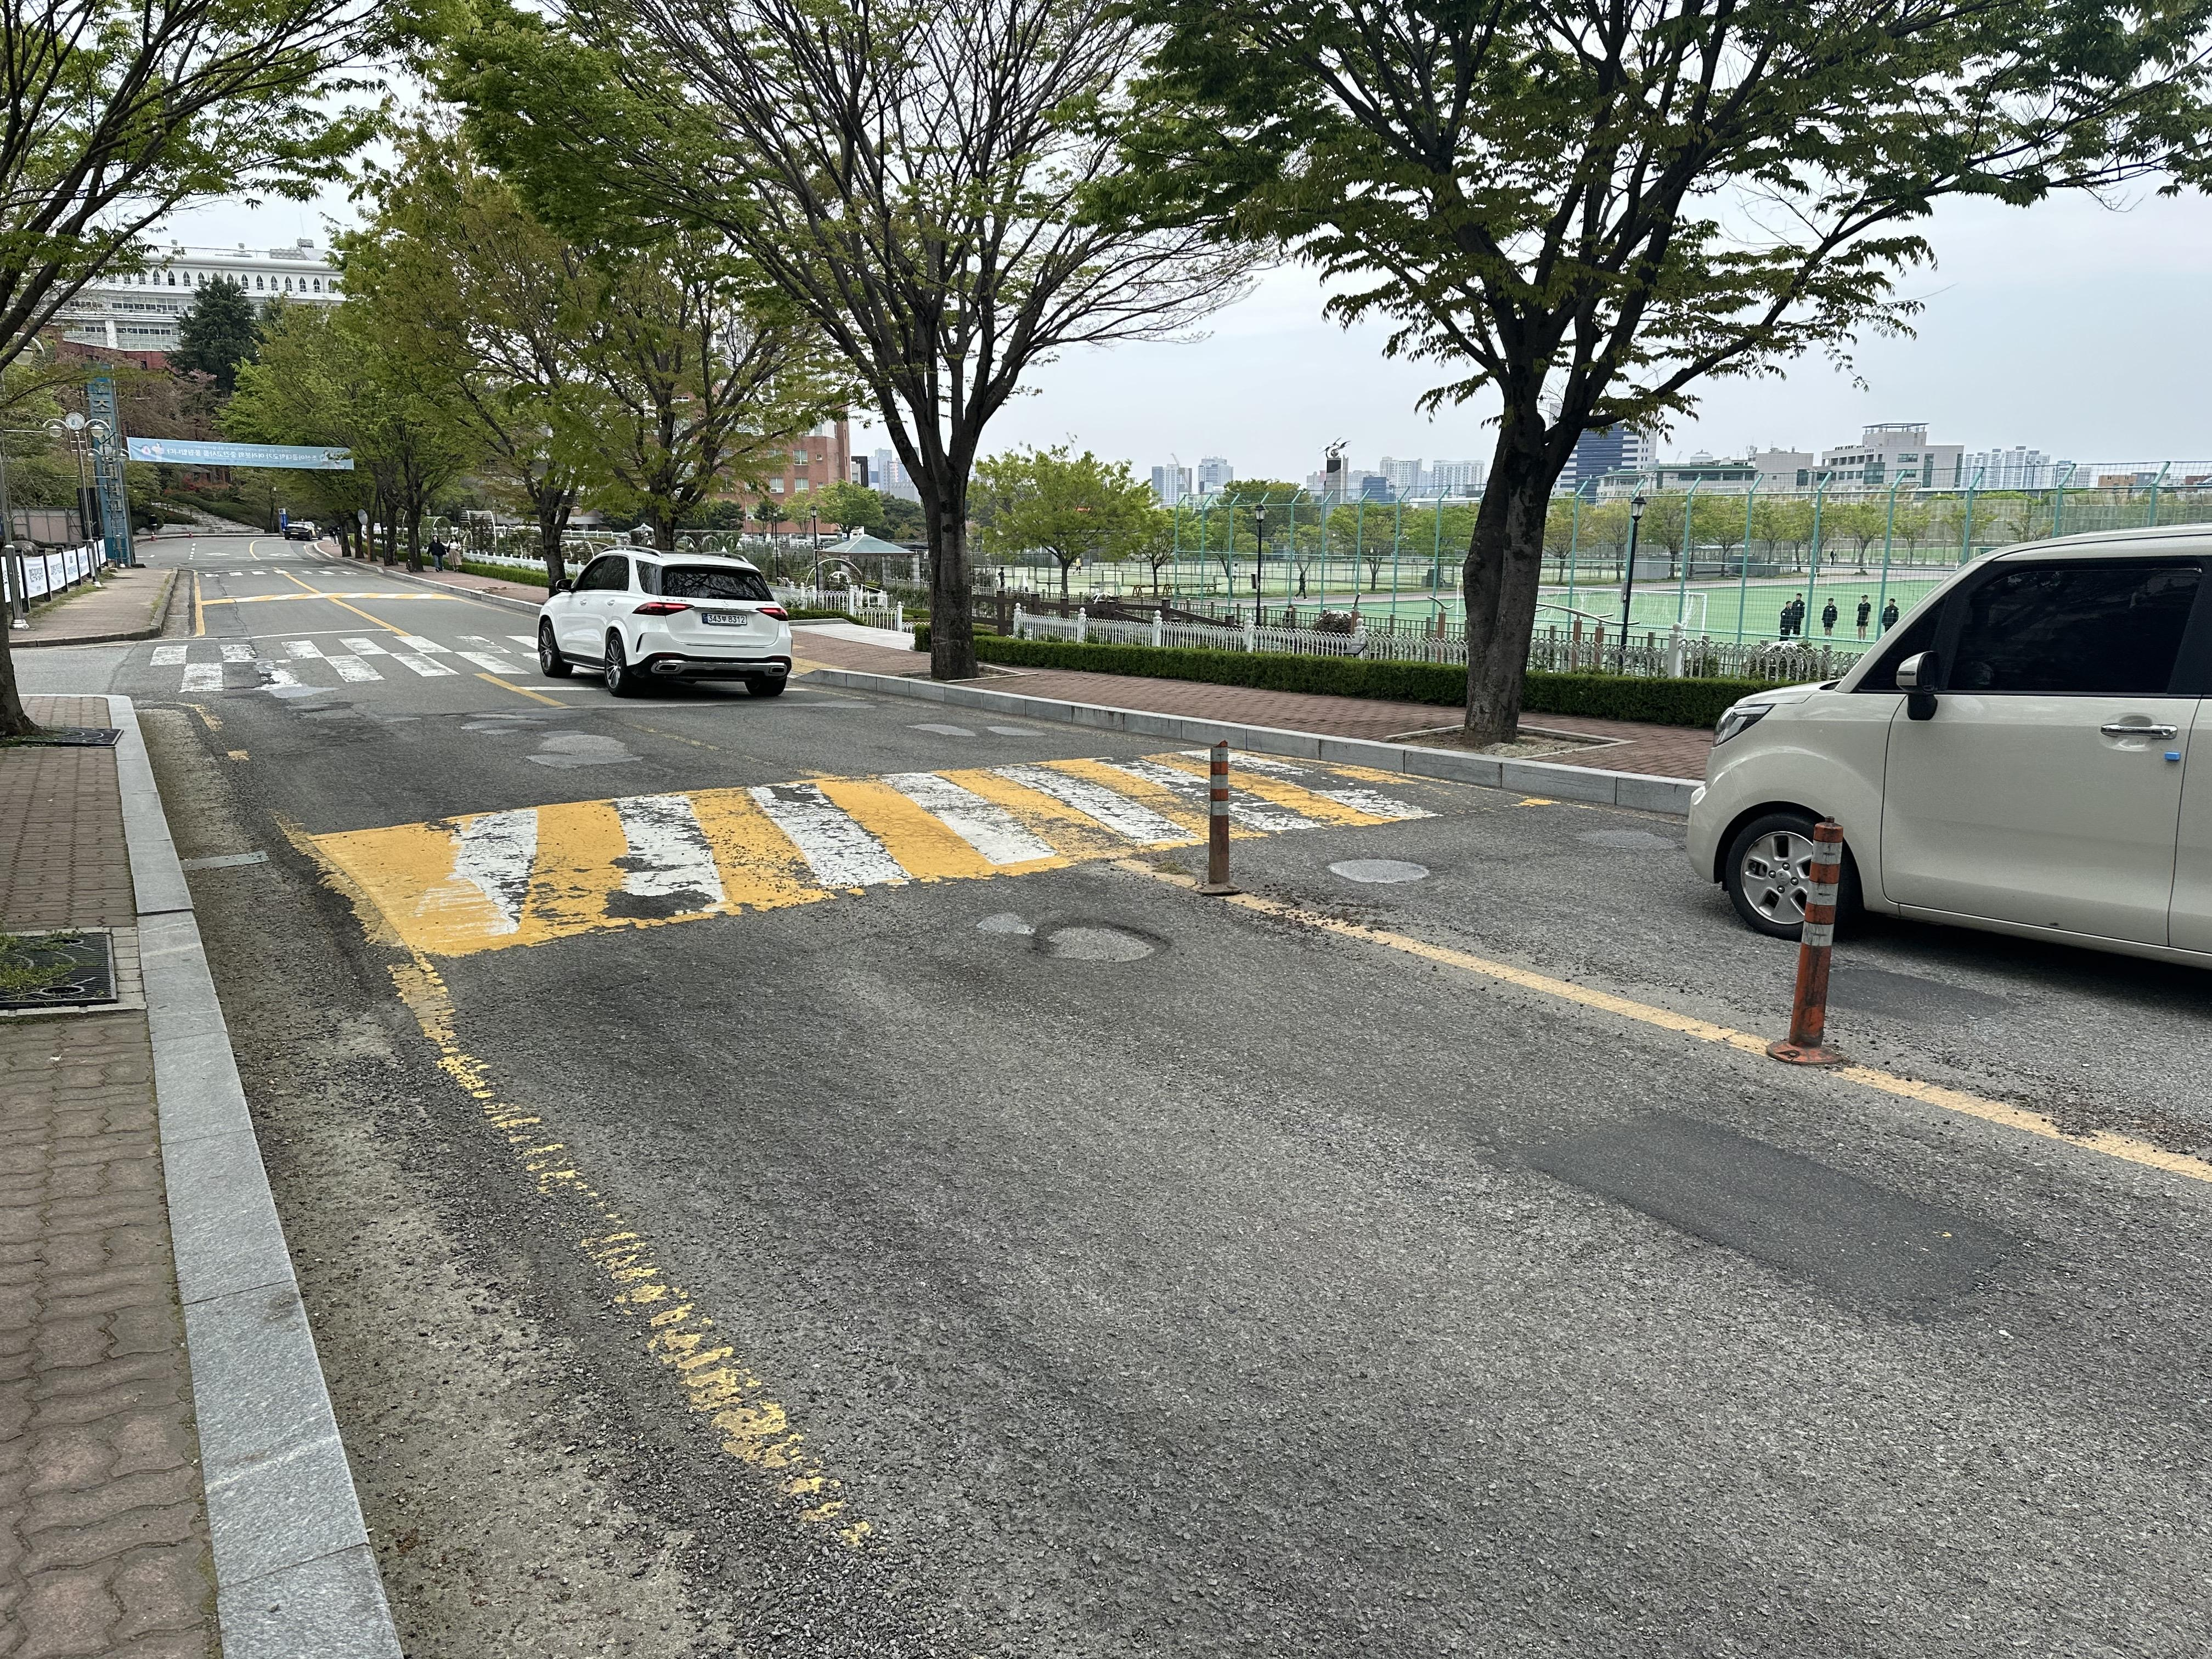pothole: (1031, 903, 1170, 979)
